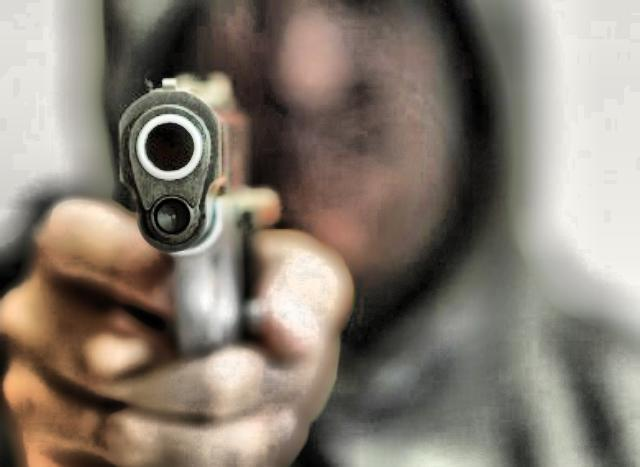pistol: (110, 65, 282, 358)
